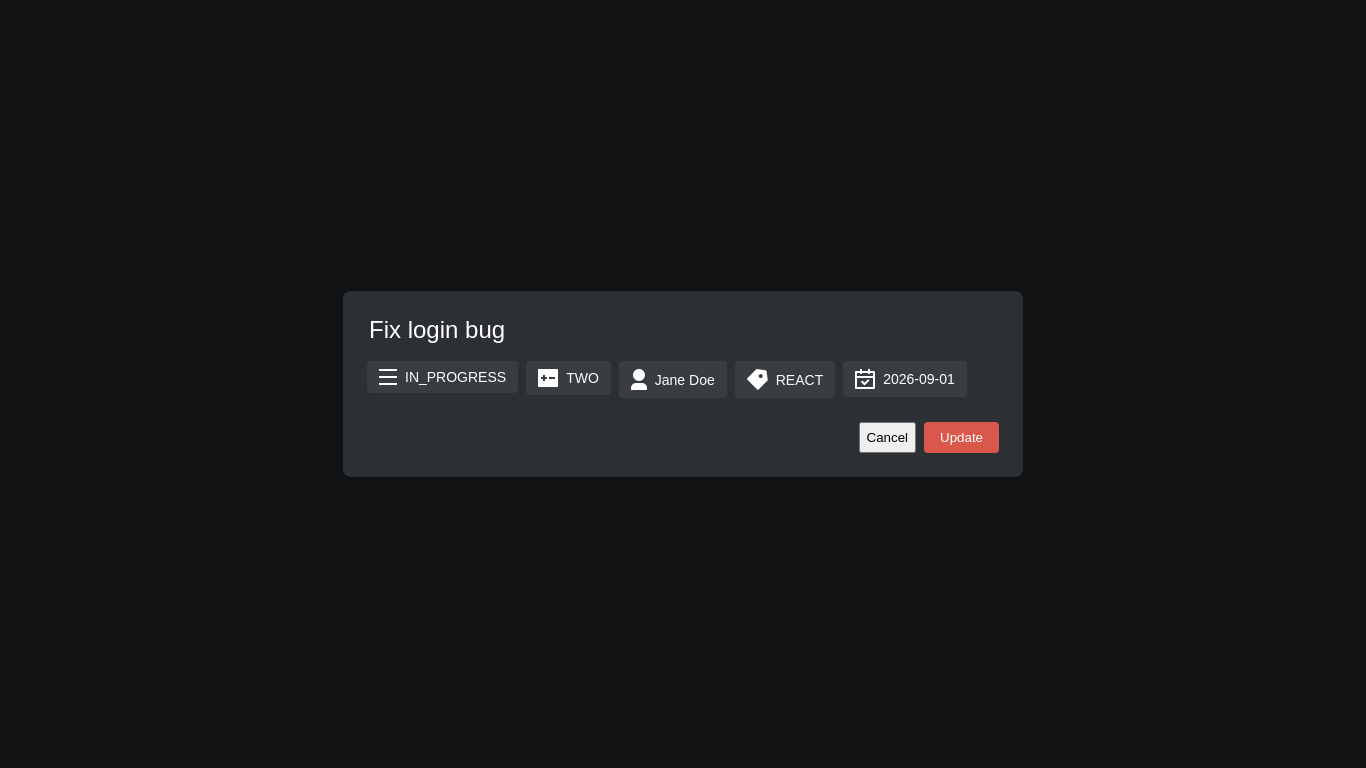
TaskModal › shows an error toast and keeps the modal open when update fails
Click the button "Update": [962, 438] box [924,422,999,453]
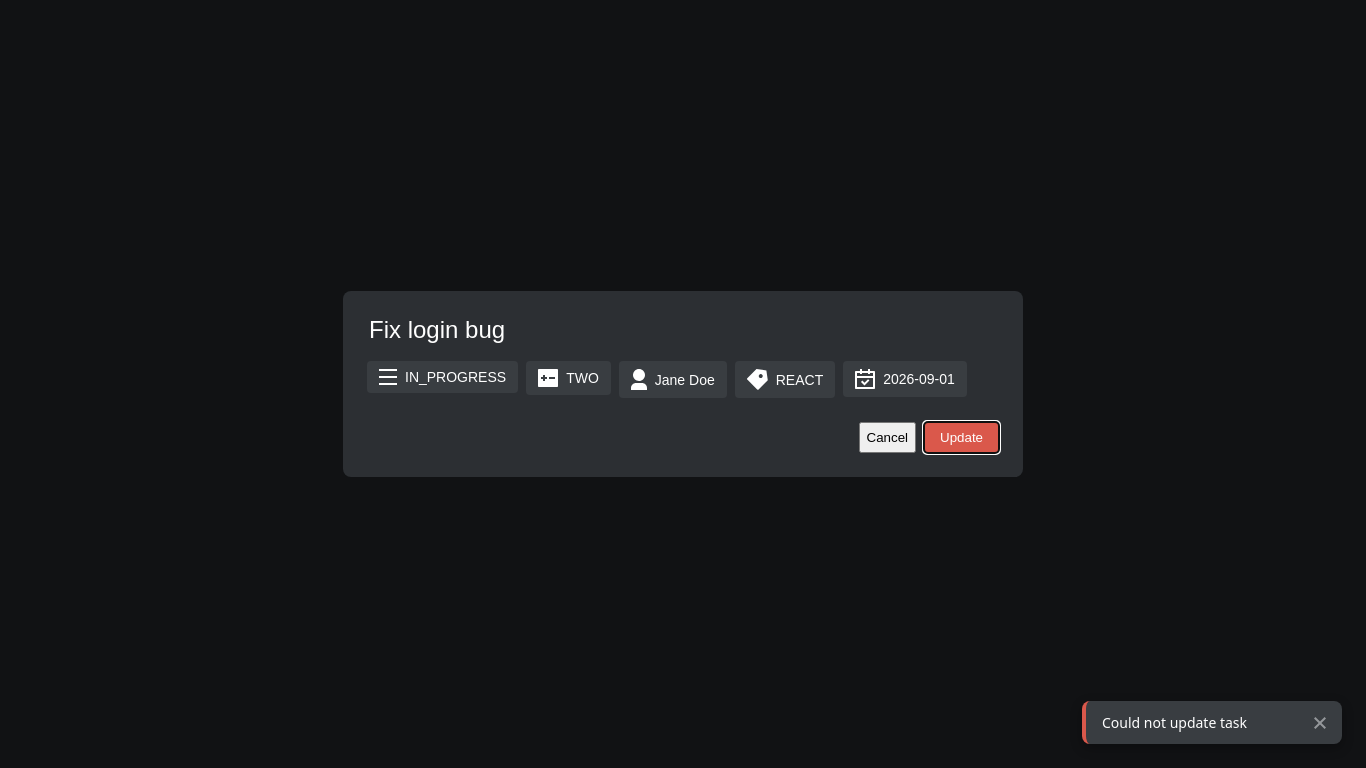
expect the field with placeholder "Task Title" holds "Fix login bug": met, box [367,315,999,345]
expect the message reads "Could not update task": met, box [1102,713,1247,732]
